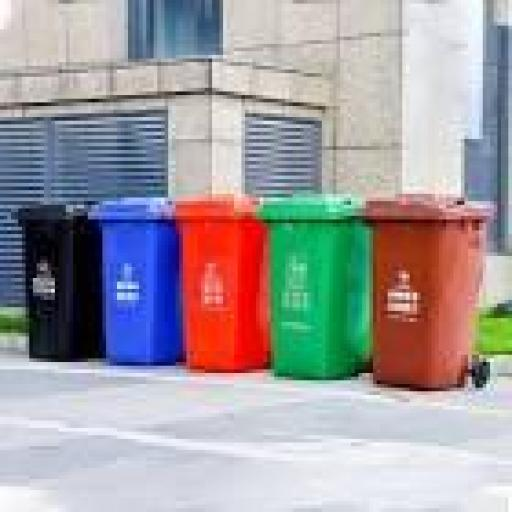poubelle_vide: (358, 186, 499, 402), (256, 186, 373, 381), (164, 196, 278, 374), (2, 184, 108, 374), (90, 191, 182, 376)
